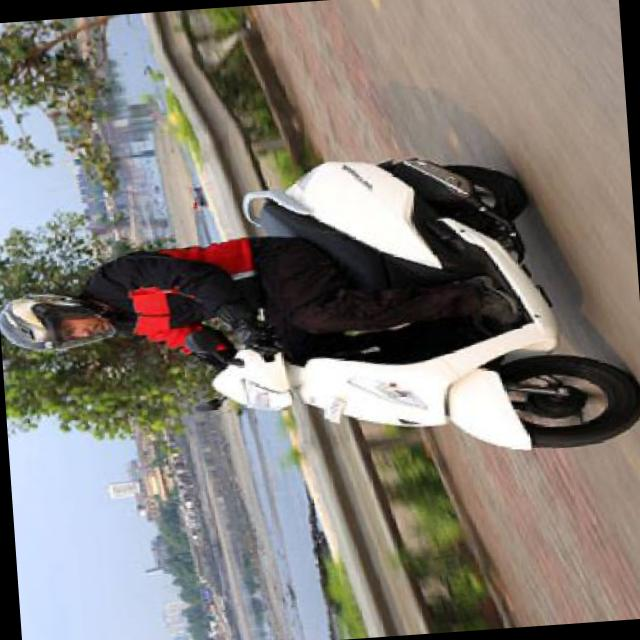With Helmet: (0, 283, 123, 357)
